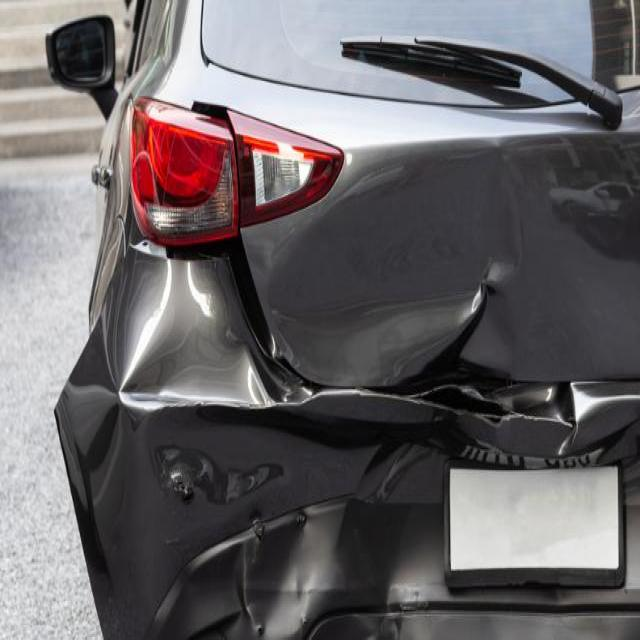Dent: (482, 280, 496, 294), (299, 613, 307, 625)
